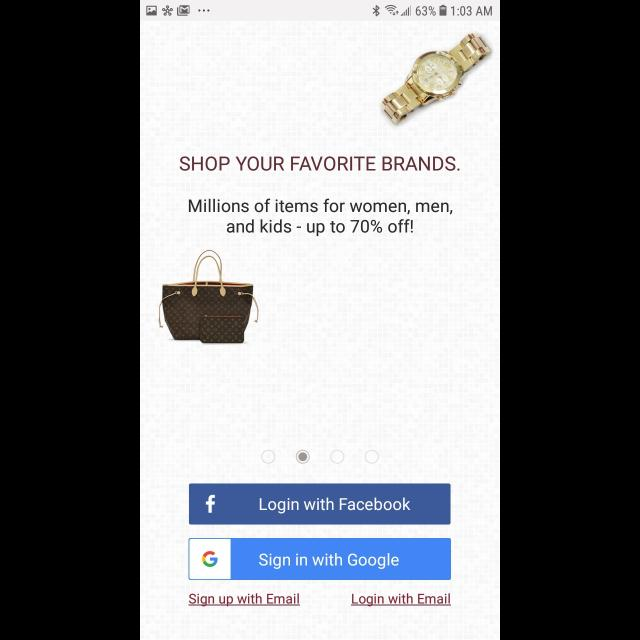image: (381, 32, 494, 126), (158, 250, 260, 344)
pageindicator: (261, 450, 379, 464)
text: (188, 199, 452, 237), (180, 156, 460, 172), (188, 593, 300, 607), (351, 593, 451, 607)
textbutton: (189, 538, 451, 580), (190, 484, 450, 524)
uppertaskbar: (140, 1, 500, 22)
